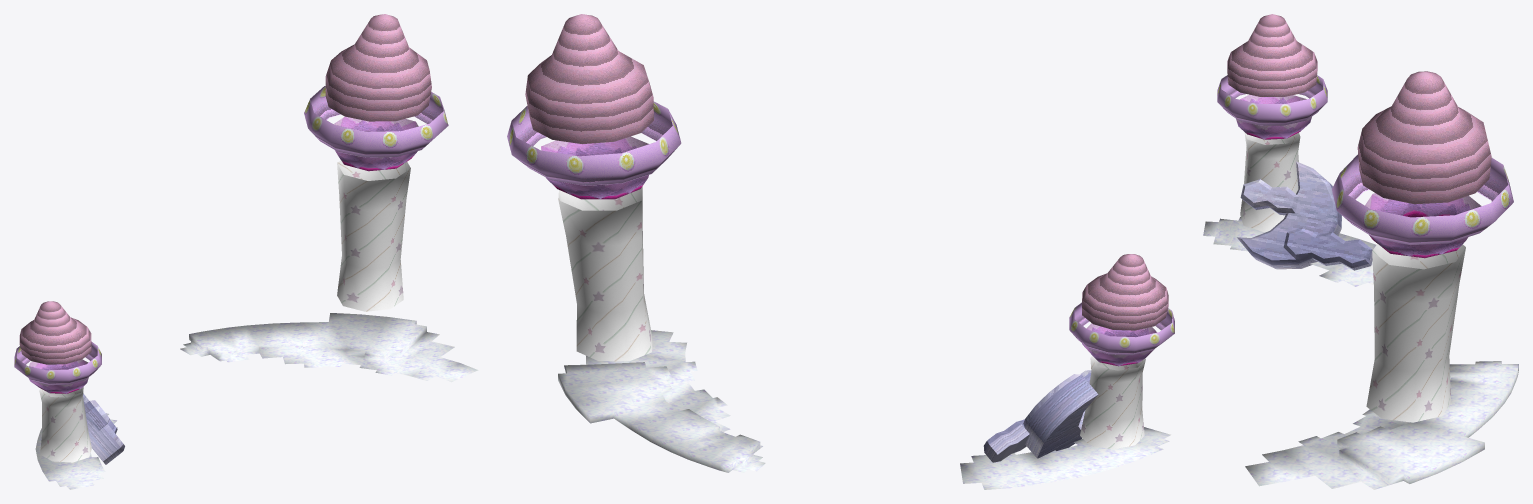
File: pilars.obj
3 views of the same model, side by side, from view 1: azimuth 30°, elevation 25°; view 2: azimuth 150°, elevation 25°; view 3: azimuth 270°, elevation 25° (orthographic). The views are drawn at different scales.
Visible parts, largest first — view 1: _25ea6248_dds, b6a3d442_dds, _3d590d6a_dds, b5826145_dds, _0c5453b6_dds, b42b3955_dds; view 2: _25ea6248_dds, b6a3d442_dds, _3d590d6a_dds, b5826145_dds, b42b3955_dds, _0c5453b6_dds; view 3: _3d590d6a_dds, b6a3d442_dds, _25ea6248_dds, b5826145_dds, b42b3955_dds, _0c5453b6_dds.
Part boxes in pixels (box(x1,y1,x2,y2)): _25ea6248_dds: box(35, 313, 478, 489); b6a3d442_dds: box(39, 160, 410, 462); _3d590d6a_dds: box(19, 14, 431, 364); b5826145_dds: box(14, 86, 448, 385); _0c5453b6_dds: box(29, 116, 418, 393); b42b3955_dds: box(83, 393, 124, 464); _25ea6248_dds: box(558, 330, 1170, 489); b6a3d442_dds: box(558, 186, 1145, 449); _3d590d6a_dds: box(525, 14, 1168, 330); b5826145_dds: box(507, 101, 1174, 355); b42b3955_dds: box(983, 370, 1098, 462); _0c5453b6_dds: box(541, 136, 1156, 366); _3d590d6a_dds: box(1227, 14, 1491, 204); b6a3d442_dds: box(1240, 132, 1465, 422); _25ea6248_dds: box(1203, 217, 1518, 489); b5826145_dds: box(1217, 75, 1513, 245); b42b3955_dds: box(1237, 161, 1372, 270); _0c5453b6_dds: box(1236, 94, 1481, 258).
Bounding box in the file's own units: 4.18 × 2.69 × 1.9.
